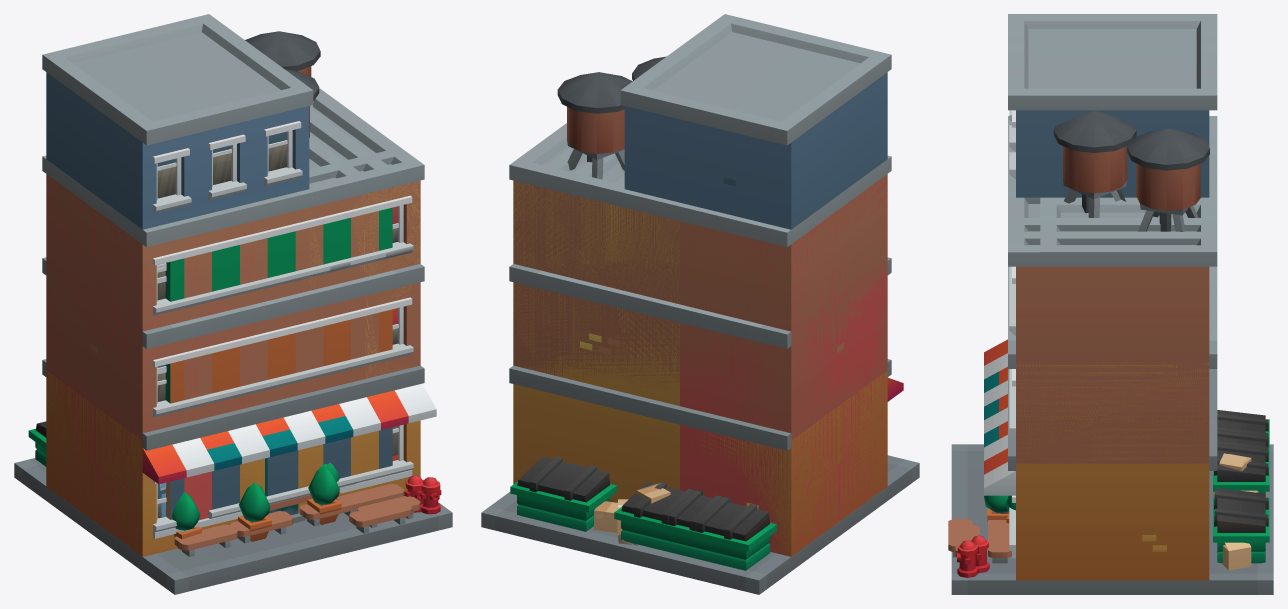
Rendered from city.glb.
3 views of the same model, side by side, from view 1: azimuth 30°, elevation 25°; view 2: azimuth 150°, elevation 25°; view 3: azimuth 270°, elevation 25° (orthographic).
Visible parts, largest first — view 1: building_E, building_H, building_F, building_D, building_G, building_B, building_A, building_C; view 2: building_E, building_F, building_H, building_D, building_G, building_C, building_B, building_A; view 3: building_E, building_H, building_D, building_F, building_C, building_G, building_B, building_A.
Part boxes in pixels (left/top/right/bottom): building_E: left=42, top=105, right=436, bottom=556; building_H: left=28, top=14, right=420, bottom=533; building_F: left=46, top=175, right=424, bottom=556; building_D: left=15, top=69, right=452, bottom=594; building_G: left=42, top=88, right=441, bottom=532; building_B: left=170, top=270, right=396, bottom=543; building_A: left=207, top=277, right=423, bottom=513; building_C: left=14, top=135, right=360, bottom=594; building_E: left=509, top=146, right=903, bottom=556; building_F: left=511, top=177, right=889, bottom=556; building_H: left=557, top=14, right=891, bottom=570; building_D: left=482, top=56, right=918, bottom=580; building_G: left=509, top=123, right=891, bottom=563; building_C: left=481, top=150, right=919, bottom=594; building_B: left=537, top=270, right=763, bottom=547; building_A: left=565, top=277, right=734, bottom=495; building_E: left=972, top=197, right=1269, bottom=580; building_H: left=955, top=14, right=1269, bottom=570; building_D: left=948, top=111, right=1273, bottom=580; building_F: left=984, top=340, right=1217, bottom=563; building_C: left=951, top=204, right=1273, bottom=594; building_G: left=957, top=116, right=1269, bottom=577; building_B: left=988, top=266, right=1269, bottom=531; building_A: left=971, top=371, right=1015, bottom=573.
Bounding box in the file's own units: 2.01 × 3.11 × 2.02.
1 material, 1 textured.
